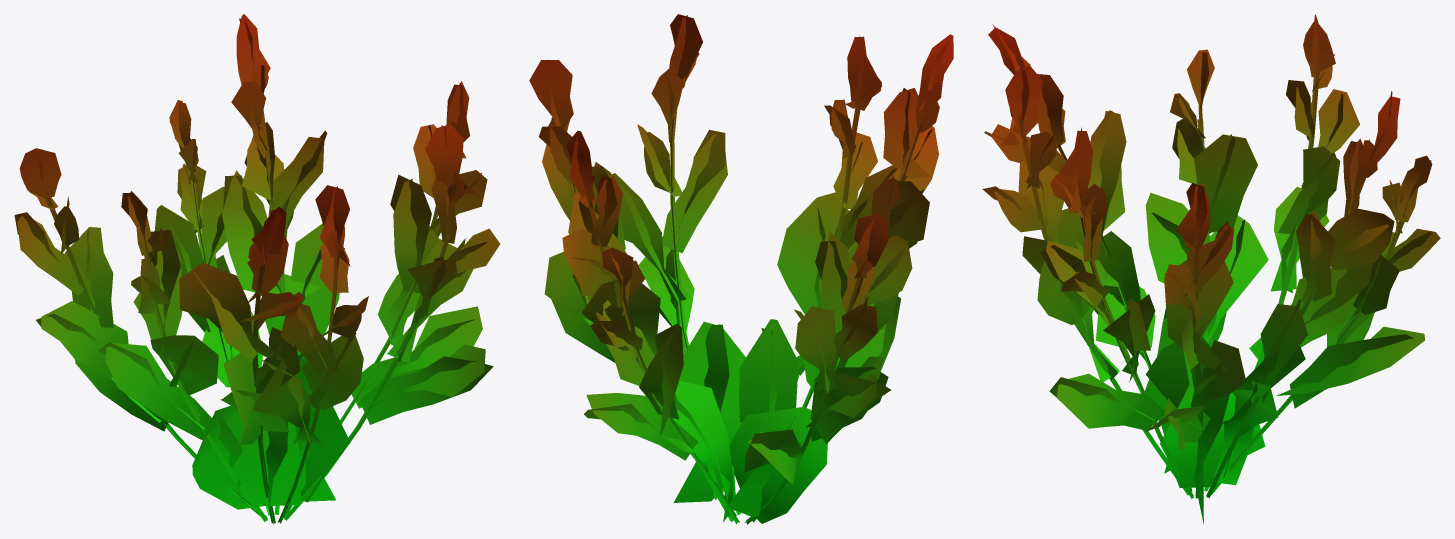
Rendered from Chamomile_LOD0_Var9_ujcnejvja.fbx.
3 renders of one model, left to right at view 1: azimuth 30°, elevation 25°; view 2: azimuth 150°, elevation 25°; view 3: azimuth 270°, elevation 25°, orthographic. The views are drawn at different scales.
Parts seen in each view (by area): view 1: _s8ks_Var9_LOD0; view 2: _s8ks_Var9_LOD0; view 3: _s8ks_Var9_LOD0.
Boxes of the visible parts, x1,y1,x2,y2 form: _s8ks_Var9_LOD0: (14,14,500,524); _s8ks_Var9_LOD0: (529,14,953,524); _s8ks_Var9_LOD0: (982,14,1440,524).
Bounding box in the file's own units: 20.73 × 21.18 × 20.2.
